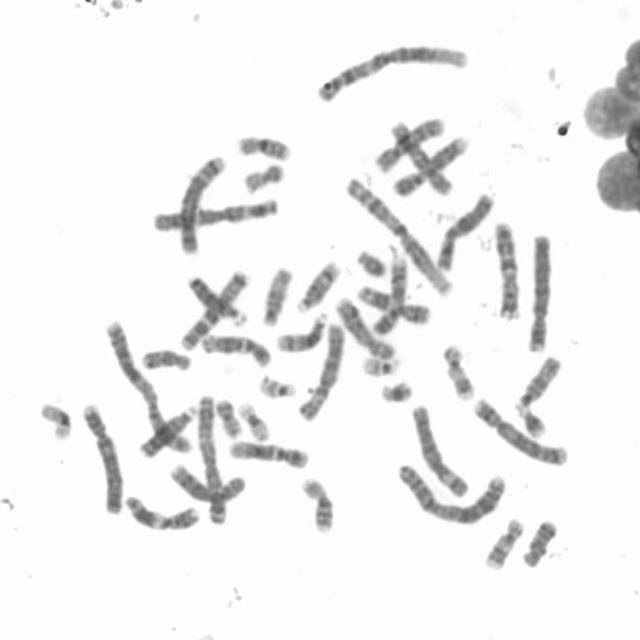A1: (343, 174, 455, 298), (316, 44, 468, 106)
A2: (104, 316, 194, 454), (397, 462, 505, 528)
A3: (151, 195, 278, 234), (196, 392, 228, 526)
B4: (79, 402, 124, 518), (527, 232, 554, 353)
B5: (474, 396, 569, 468), (178, 151, 226, 257)
C10: (388, 120, 454, 198), (374, 116, 444, 174)
C11: (122, 494, 202, 535), (357, 285, 430, 328)
C12: (202, 332, 272, 370), (228, 439, 308, 469)
C6: (409, 404, 470, 500), (298, 323, 346, 423)
C7: (180, 269, 252, 352), (491, 221, 522, 323)
C8: (335, 296, 395, 359), (170, 462, 249, 505)
C9: (391, 135, 468, 198), (372, 248, 408, 336)
D13: (186, 274, 246, 328), (140, 404, 196, 458)
D14: (296, 258, 342, 314), (275, 311, 327, 354)
D15: (514, 355, 563, 414), (260, 264, 294, 328)
E16: (296, 476, 340, 540), (236, 135, 290, 163)
E17: (483, 517, 525, 573), (441, 344, 474, 401)
E18: (522, 518, 562, 569), (140, 349, 192, 372)
F19: (38, 400, 76, 450), (238, 400, 270, 442)
F20: (244, 164, 286, 194), (215, 397, 242, 439)
G21: (510, 402, 548, 442), (380, 380, 414, 406)
G22: (257, 373, 298, 400), (360, 355, 402, 380)
X: (436, 188, 496, 272)
Y: (352, 248, 388, 279)
